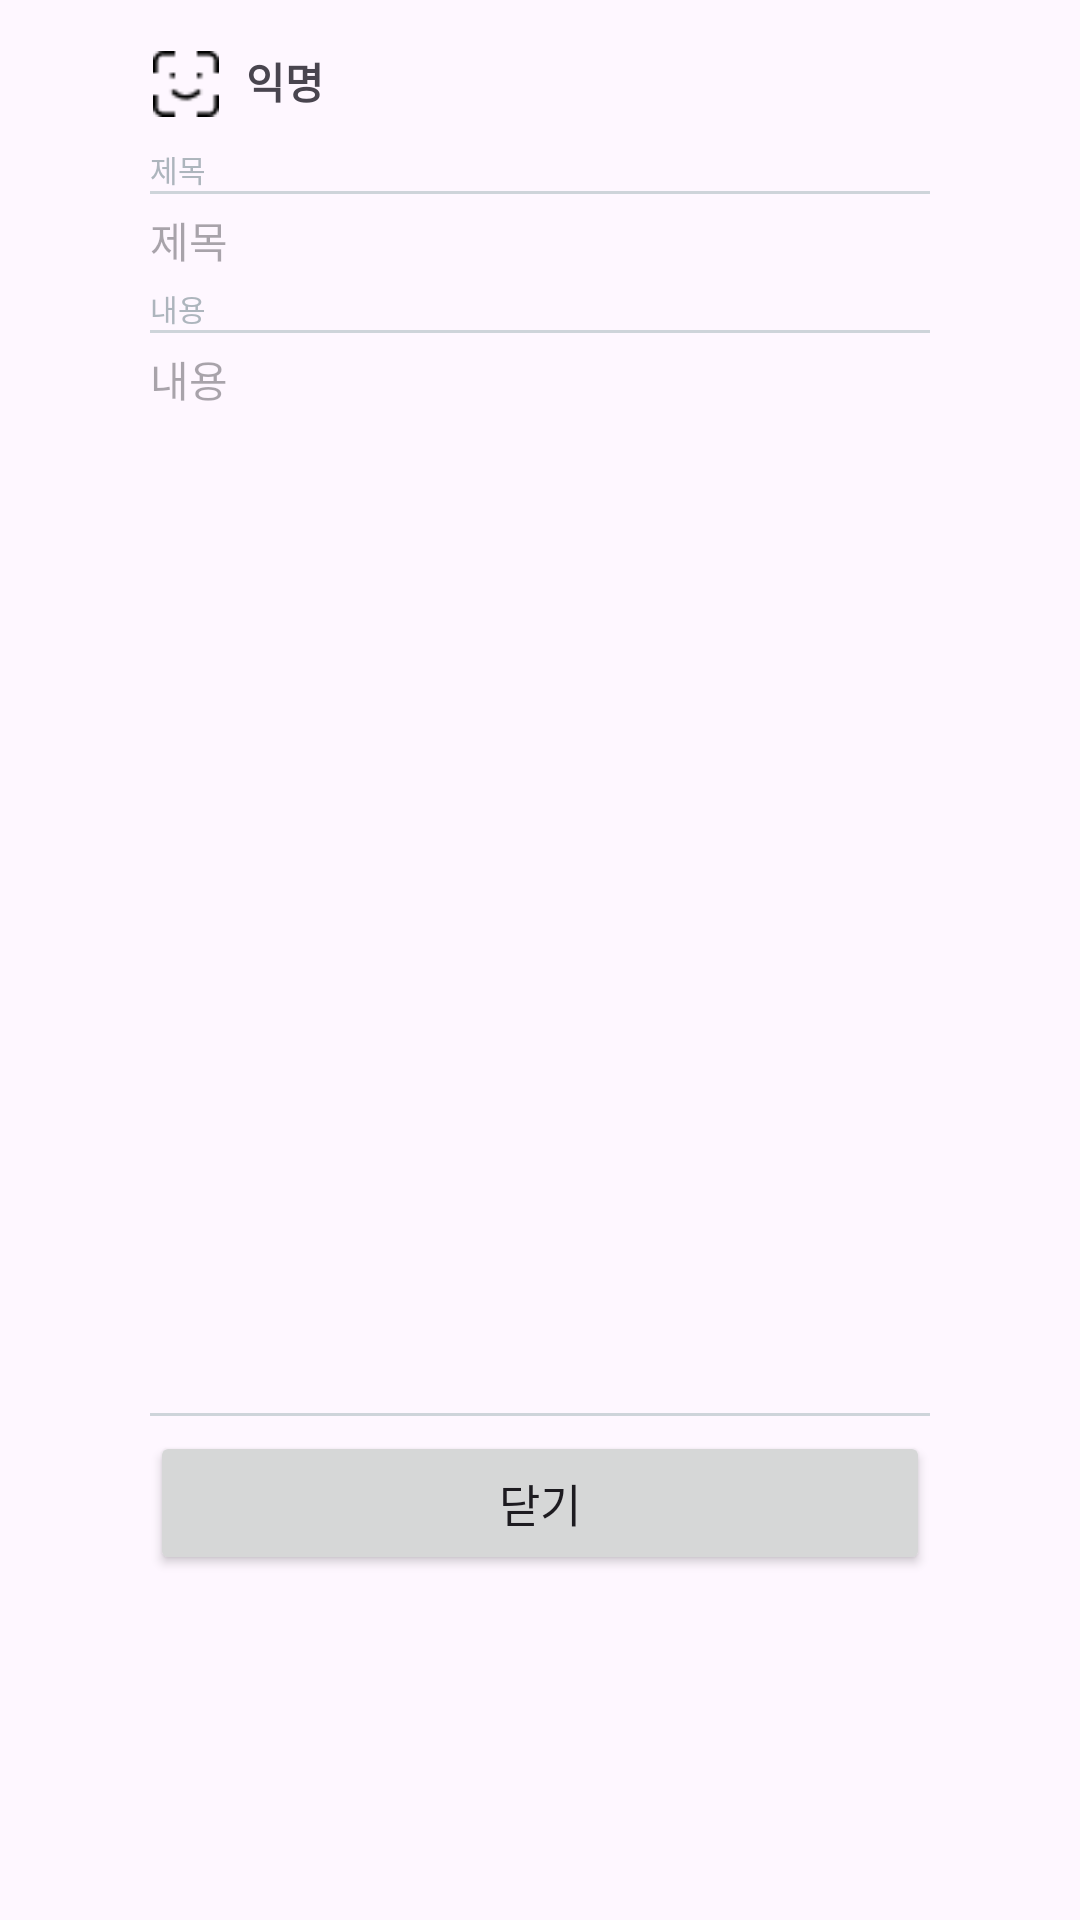

Icons on this 1080px×1920px Android screen, each with its box as (x1, y1, x2, y2):
teenyicons face id: (153, 51, 219, 117)
